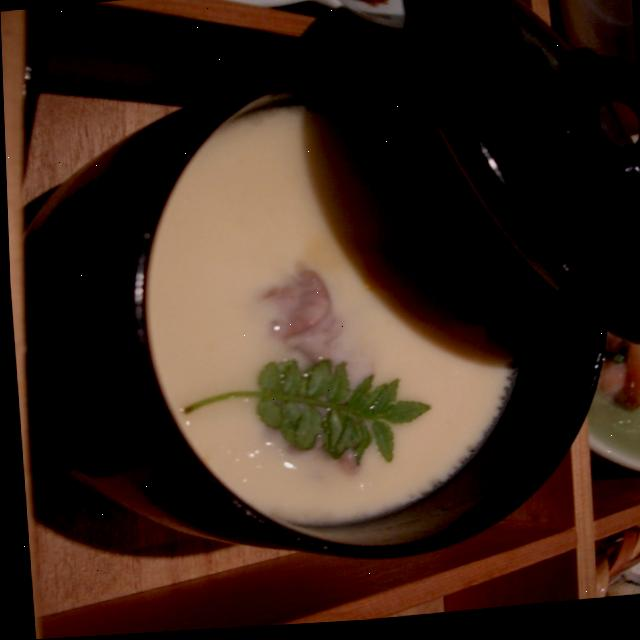鸡蛋料理: (6, 34, 636, 585)
